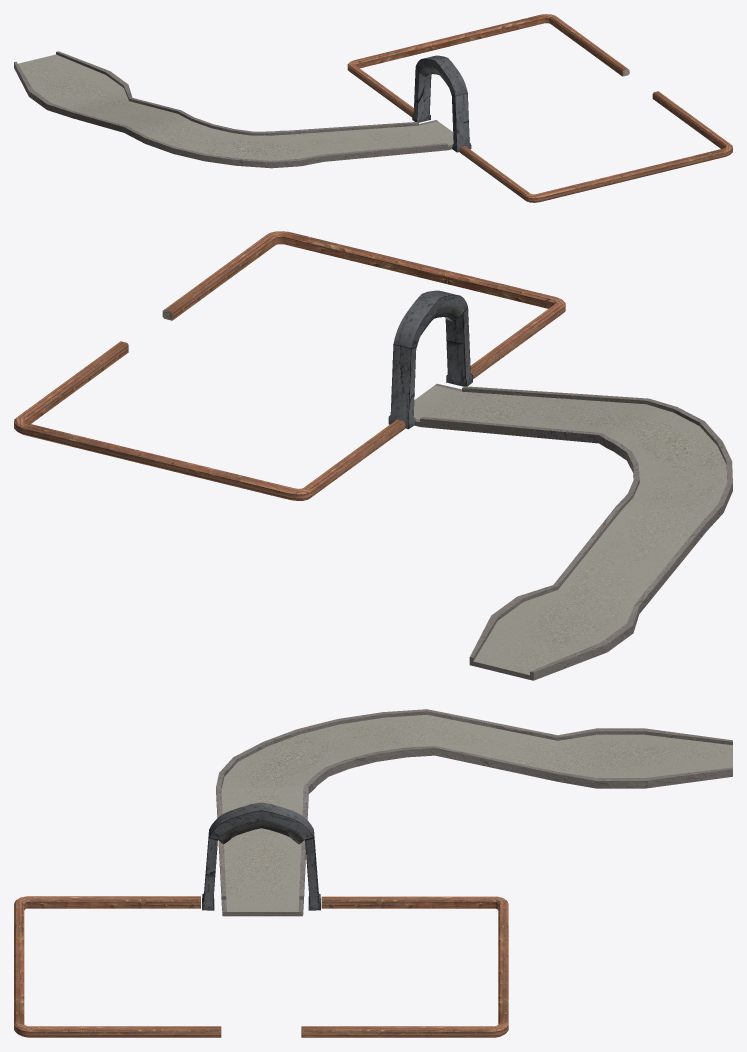
Rendered from GardenArchWalkwayNew.fbx.
The picture shows the model from 3 angles, top to bottom: view 1: azimuth 30°, elevation 25°; view 2: azimuth 150°, elevation 25°; view 3: azimuth 270°, elevation 25°; orthographic projection. The views are drawn at different scales.
Parts seen in each view (by area): view 1: LargeWalkway, LargePlanterBarrier1, LargePlanterBarrier2, GardenBedArch; view 2: LargeWalkway, LargePlanterBarrier2, LargePlanterBarrier1, GardenBedArch; view 3: LargeWalkway, LargePlanterBarrier1, LargePlanterBarrier2, GardenBedArch.
Boxes of the visible parts, x1,y1,x2,y2 form: LargeWalkway: (14, 51, 453, 168); LargePlanterBarrier1: (347, 14, 629, 117); LargePlanterBarrier2: (459, 91, 732, 202); GardenBedArch: (412, 55, 471, 152); LargeWalkway: (413, 383, 732, 680); LargePlanterBarrier2: (162, 231, 565, 378); LargePlanterBarrier1: (14, 341, 405, 500); GardenBedArch: (388, 290, 472, 429); LargeWalkway: (216, 709, 732, 916); LargePlanterBarrier1: (301, 896, 508, 1037); LargePlanterBarrier2: (14, 896, 221, 1037); GardenBedArch: (202, 802, 320, 910).
Size of the model in its own units: 3177 by 500 by 3170.
Materials: 1 (1 with a texture image).
